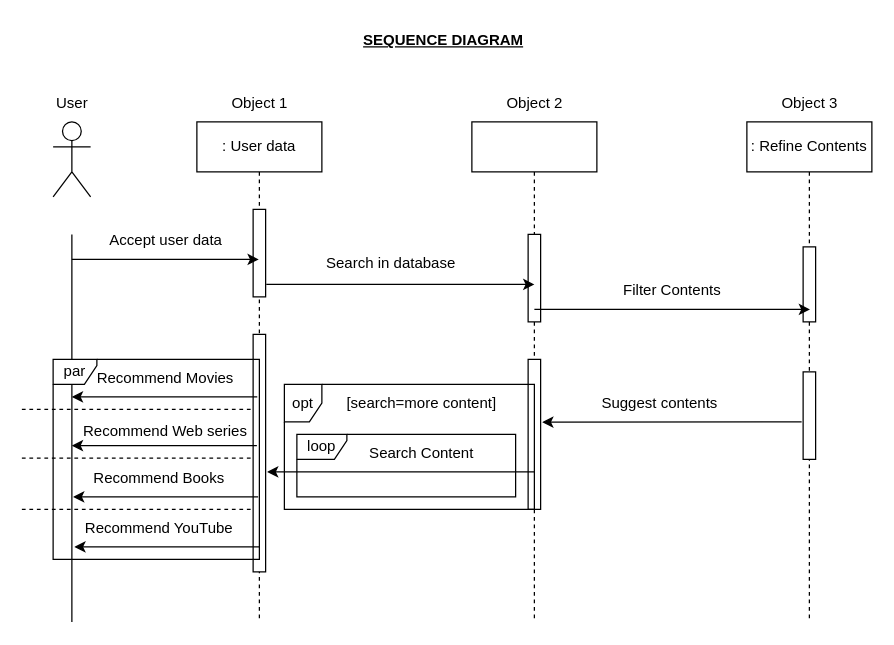
Some shapes in this 894 by 645 pixel diagram are drawn without their labels. Each missing label, with the centre of its shape:
": Database" goes at point (534, 371).
"Actor" goes at point (71, 159).
